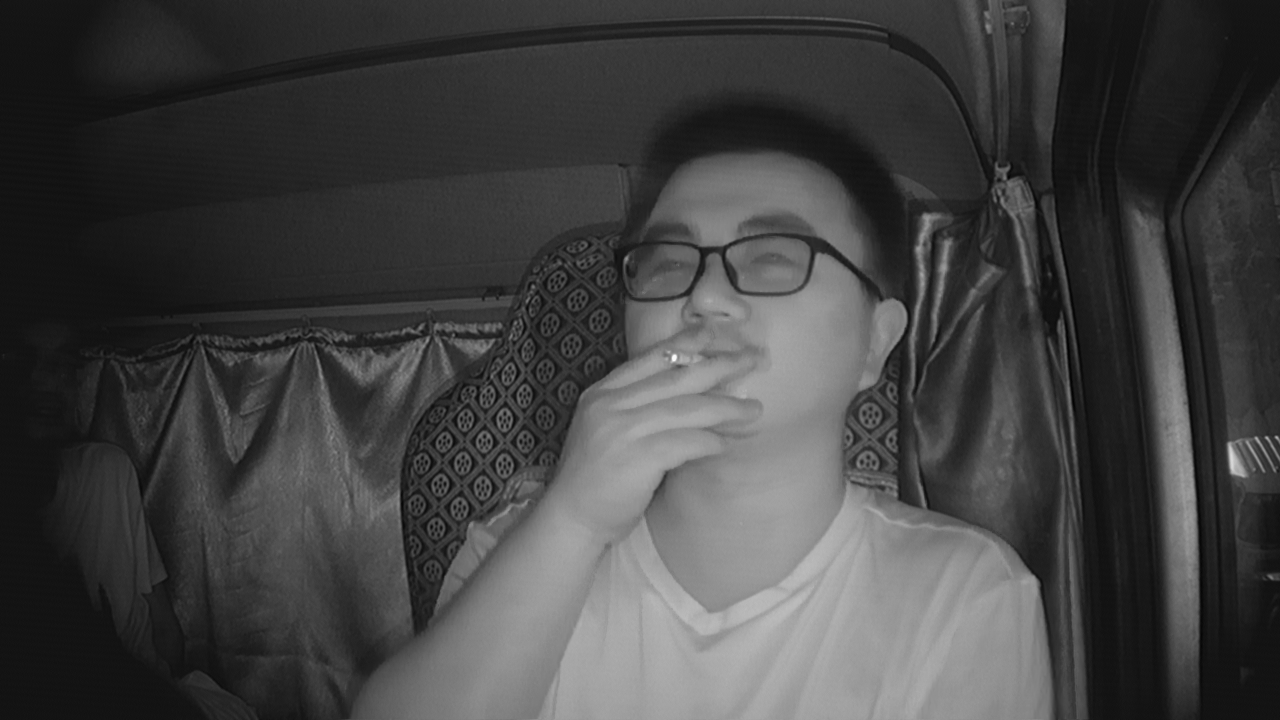hand: (615, 325, 762, 487)
